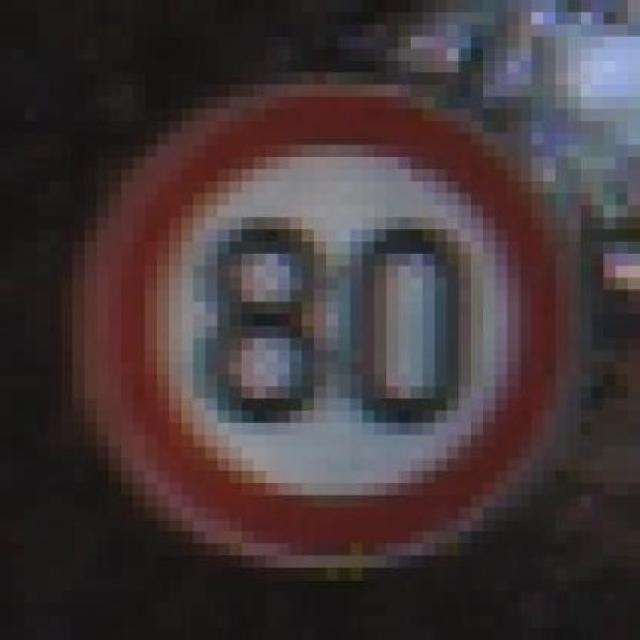forb_speed_over_80: (94, 84, 563, 568)
